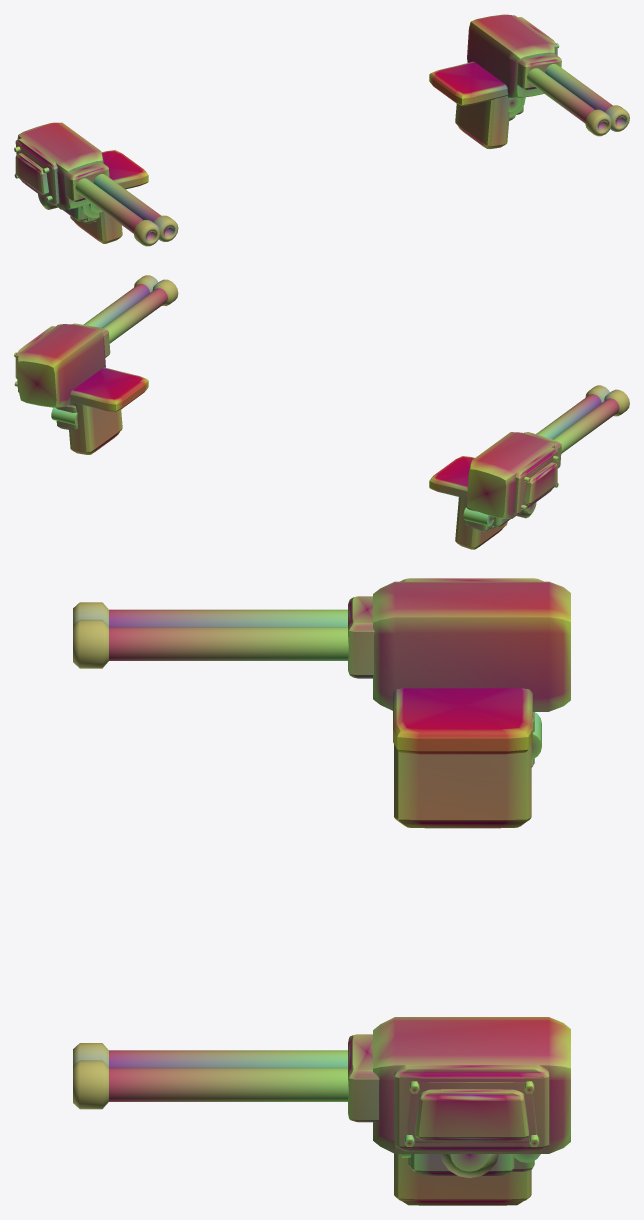
The model's file is llm_gen_shoulder_pods_118_e87abb.glb.
The picture shows the model from 3 angles, top to bottom: view 1: azimuth 30°, elevation 25°; view 2: azimuth 150°, elevation 25°; view 3: azimuth 270°, elevation 25°; orthographic projection. The views are drawn at different scales.
Visible parts, largest first — view 1: adapter_shoulder_yoke_r, cannon_cradle_1_wing_white_r, cannon_cradle_1_wing_white_l, adapter_shoulder_yoke_l, beam_barrel_in_3_barrel_metal_r, beam_barrel_out_4_barrel_metal_l, cannon_side_shroud_blue_8_titanium_silver_l, beam_barrel_in_3_barrel_metal_l, beam_barrel_out_4_barrel_metal_r, adapter_sub_heatsink_bezel_dark_7_adapter_dark_l, adapter_sub_mantlet_dark_2_adapter_dark_l, adapter_sub_mantlet_dark_2_adapter_dark_r (+4 smaller); view 2: cannon_cradle_1_wing_white_r, adapter_shoulder_yoke_r, cannon_cradle_1_wing_white_l, adapter_shoulder_yoke_l, beam_barrel_out_4_barrel_metal_l, beam_barrel_in_3_barrel_metal_r, cannon_side_shroud_blue_8_titanium_silver_l, beam_barrel_in_3_barrel_metal_l, beam_barrel_out_4_barrel_metal_r, adapter_sub_heatsink_bezel_dark_7_adapter_dark_l; view 3: cannon_cradle_1_wing_white_l, adapter_shoulder_yoke_l, cannon_cradle_1_wing_white_r, beam_barrel_out_4_barrel_metal_r, beam_barrel_in_3_barrel_metal_l, cannon_side_shroud_blue_8_titanium_silver_r, adapter_sub_heatsink_bezel_dark_7_adapter_dark_r, adapter_shoulder_yoke_r, beam_barrel_in_3_barrel_metal_r, beam_barrel_out_4_barrel_metal_l, adapter_sub_mantlet_dark_2_adapter_dark_r, adapter_sub_mantlet_dark_2_adapter_dark_l (+3 smaller).
Boxes of the visible parts, box(x1,y1,x2,y2) form: adapter_shoulder_yoke_r: box(429, 61, 525, 148); cannon_cradle_1_wing_white_r: box(467, 14, 555, 98); cannon_cradle_1_wing_white_l: box(17, 122, 103, 209); adapter_shoulder_yoke_l: box(62, 150, 148, 243); beam_barrel_in_3_barrel_metal_r: box(527, 68, 594, 123); beam_barrel_out_4_barrel_metal_l: box(75, 178, 143, 233); cannon_side_shroud_blue_8_titanium_silver_l: box(14, 146, 52, 201); beam_barrel_in_3_barrel_metal_l: box(93, 174, 161, 222); beam_barrel_out_4_barrel_metal_r: box(545, 64, 612, 111); adapter_sub_heatsink_bezel_dark_7_adapter_dark_l: box(15, 138, 59, 205); adapter_sub_mantlet_dark_2_adapter_dark_l: box(64, 162, 109, 201); adapter_sub_mantlet_dark_2_adapter_dark_r: box(517, 54, 561, 89); cannon_cradle_1_wing_white_r: box(17, 324, 105, 407); adapter_shoulder_yoke_r: box(69, 367, 148, 454); cannon_cradle_1_wing_white_l: box(467, 432, 555, 518); adapter_shoulder_yoke_l: box(429, 456, 510, 549); beam_barrel_out_4_barrel_metal_l: box(552, 398, 619, 453); beam_barrel_in_3_barrel_metal_r: box(103, 288, 167, 343); cannon_side_shroud_blue_8_titanium_silver_l: box(520, 455, 559, 510); beam_barrel_in_3_barrel_metal_l: box(536, 394, 601, 439); beam_barrel_out_4_barrel_metal_r: box(83, 284, 149, 327); adapter_sub_heatsink_bezel_dark_7_adapter_dark_l: box(514, 447, 557, 514); cannon_cradle_1_wing_white_l: box(373, 581, 570, 711); adapter_shoulder_yoke_l: box(393, 688, 532, 828); cannon_cradle_1_wing_white_r: box(373, 1017, 570, 1153); beam_barrel_out_4_barrel_metal_r: box(109, 1067, 348, 1101); beam_barrel_in_3_barrel_metal_l: box(109, 627, 348, 660); cannon_side_shroud_blue_8_titanium_silver_r: box(404, 1081, 539, 1146); adapter_sub_heatsink_bezel_dark_7_adapter_dark_r: box(394, 1065, 549, 1151); adapter_shoulder_yoke_r: box(394, 1153, 531, 1205); beam_barrel_in_3_barrel_metal_r: box(109, 1050, 347, 1067); beam_barrel_out_4_barrel_metal_l: box(109, 609, 347, 626); adapter_sub_mantlet_dark_2_adapter_dark_r: box(348, 1034, 379, 1122); adapter_sub_mantlet_dark_2_adapter_dark_l: box(348, 596, 374, 678).
Size of the model in its own units: 111 by 20.12 by 46.37.
